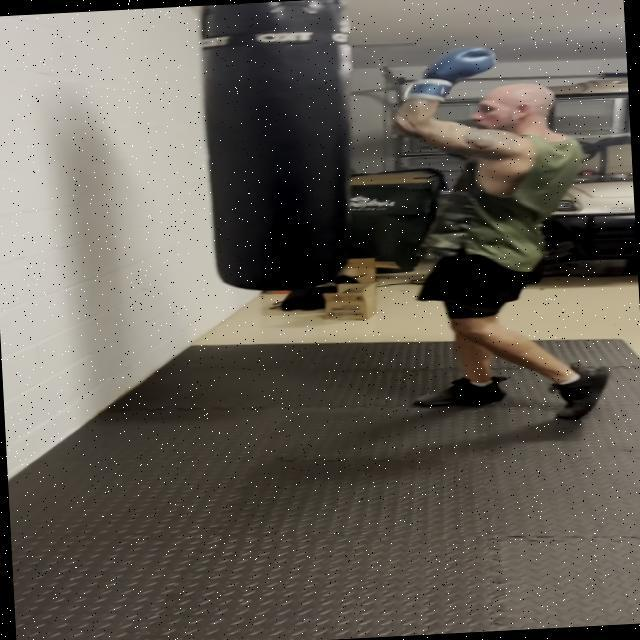bag: (174, 0, 374, 301)
uppercut: (378, 40, 591, 202)
